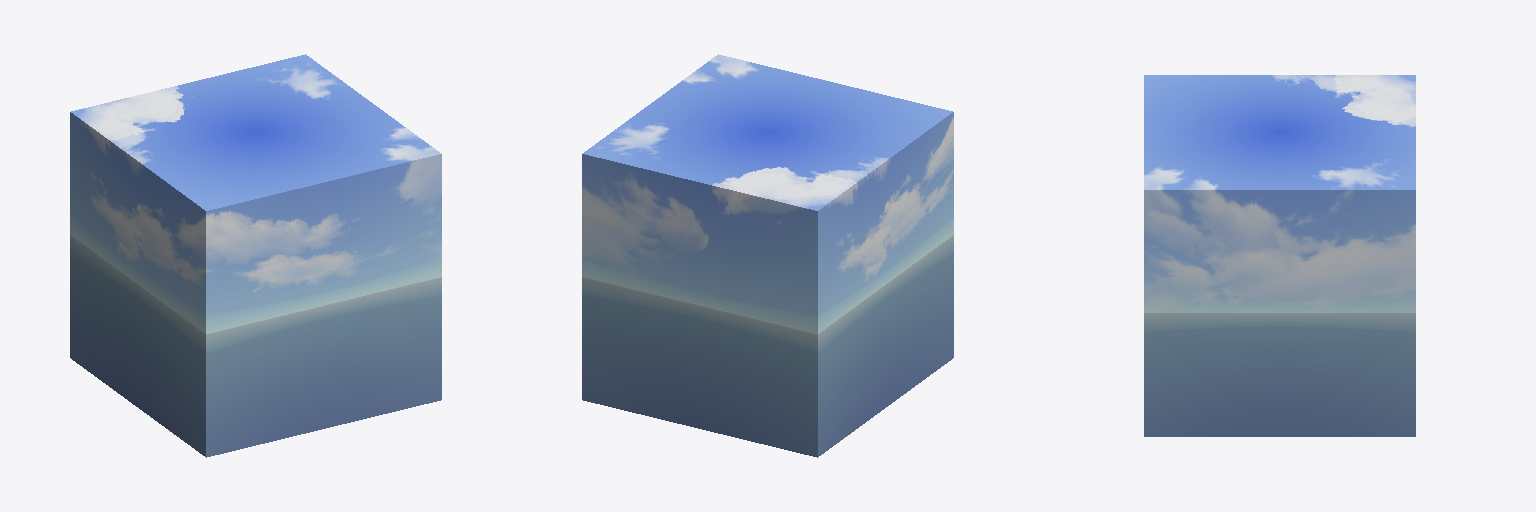
3 views of the same model, side by side, from view 1: azimuth 30°, elevation 25°; view 2: azimuth 150°, elevation 25°; view 3: azimuth 270°, elevation 25° (orthographic).
Parts seen in each view (by area): view 1: Cube; view 2: Cube; view 3: Cube.
Boxes of the visible parts, <box> form: Cube: <box>70,54,441,457</box>; Cube: <box>582,54,953,457</box>; Cube: <box>1144,75,1415,436</box>.
Size of the model in its own units: 2 by 2 by 2.
1 materials, 1 textured.